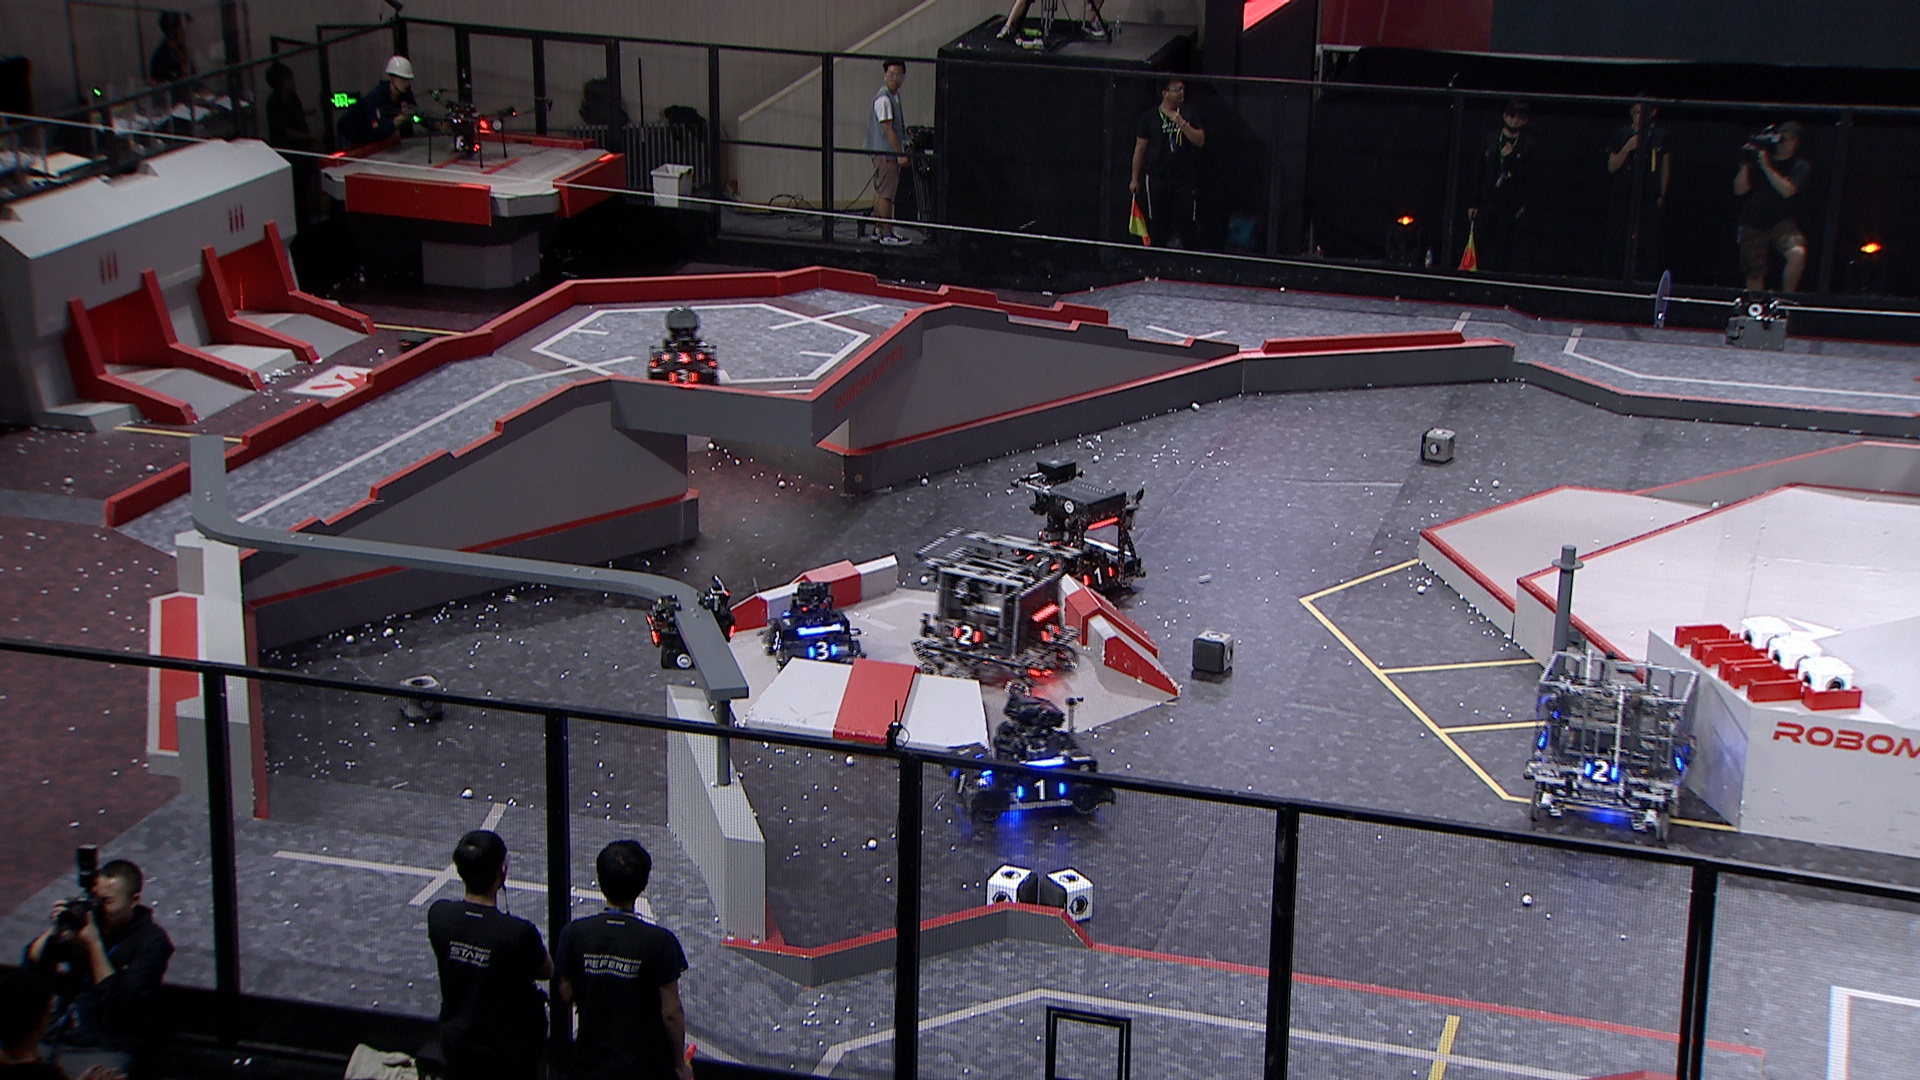armor: (1015, 775, 1072, 803), (944, 765, 975, 800), (638, 608, 665, 646), (1025, 547, 1060, 574), (661, 347, 708, 365), (949, 622, 984, 647), (1584, 760, 1618, 785), (1077, 564, 1117, 585), (1035, 618, 1065, 645), (808, 640, 840, 665), (1669, 742, 1695, 771), (769, 624, 789, 654), (666, 371, 699, 386)
car: (1532, 647, 1700, 843), (909, 526, 1084, 683), (936, 688, 1112, 825), (1000, 463, 1147, 600), (760, 578, 868, 674), (644, 305, 723, 392)
watcher: (640, 574, 738, 675)
